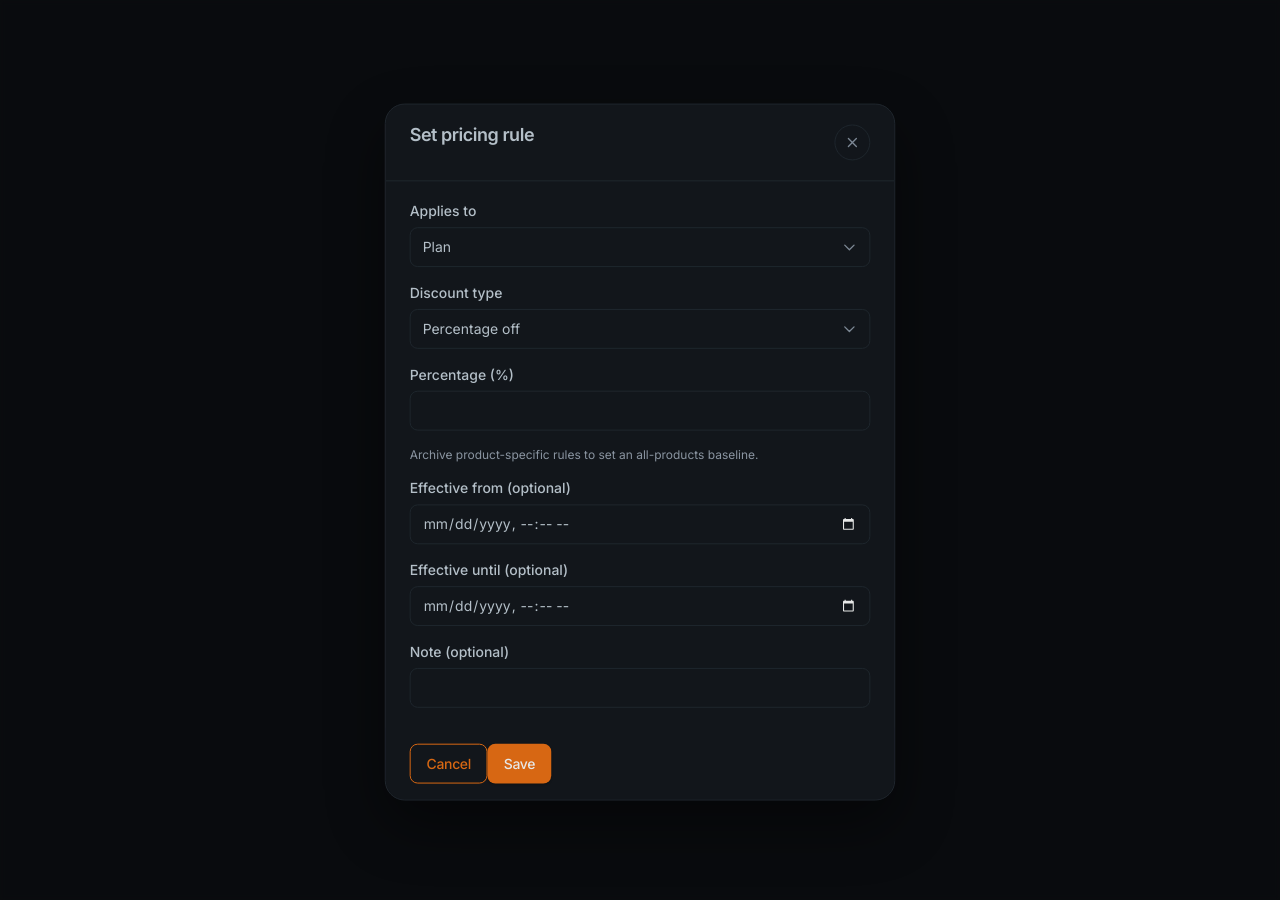
Scenario: SetPricingRuleModal › grays out (disables) the all-products target when a product-specific rule is active
Click the button "Plan": (437, 246) x1=410 y1=227 x2=870 y2=267
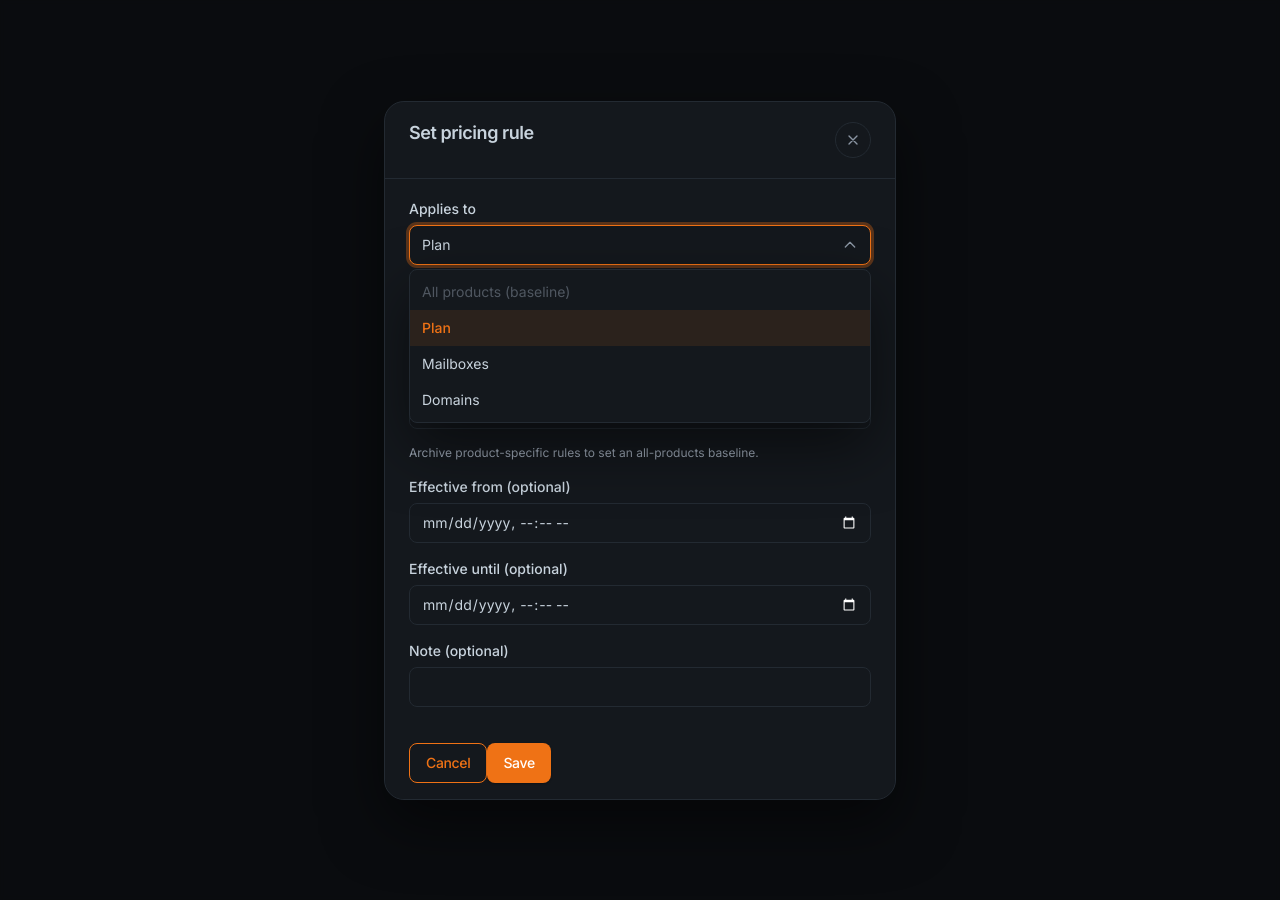
Check: the option "Plan" is enabled, box x1=410 y1=310 x2=870 y2=346
Check: the option "All products (baseline)" is disabled, box x1=410 y1=274 x2=870 y2=310
